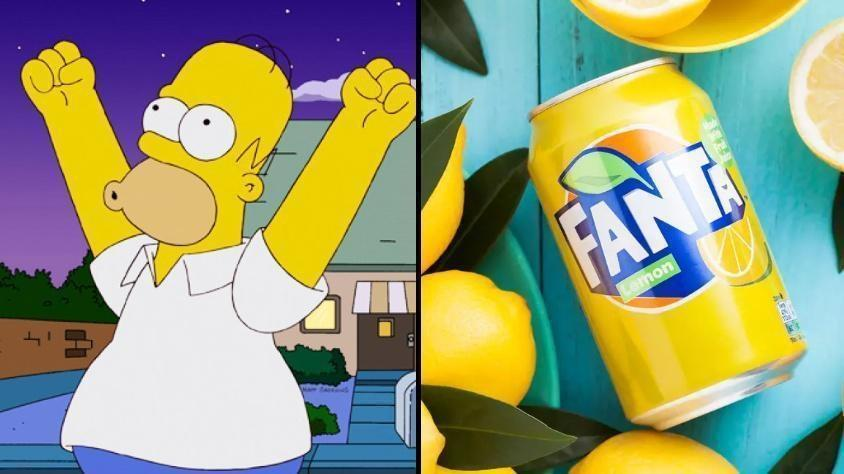tin can: (522, 55, 806, 434)
